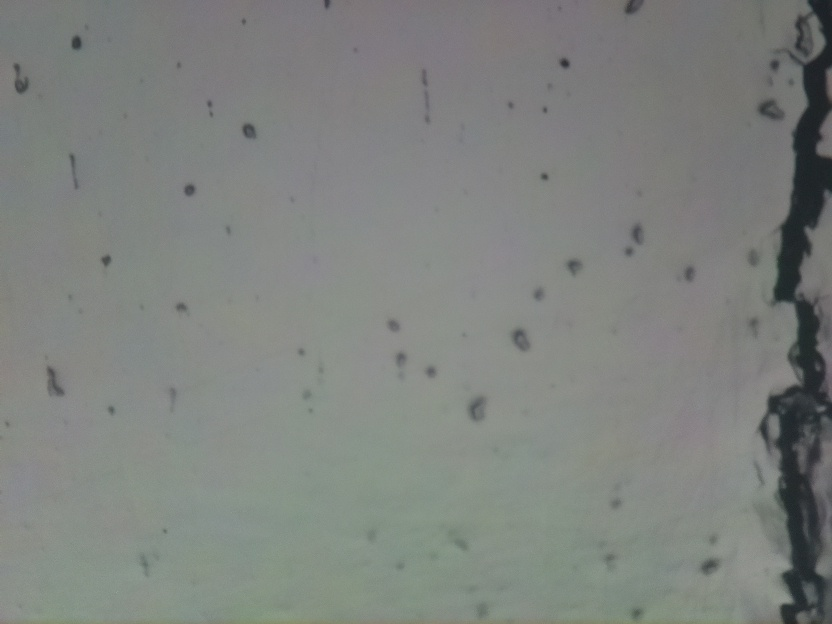crack: (763, 0, 832, 621)
